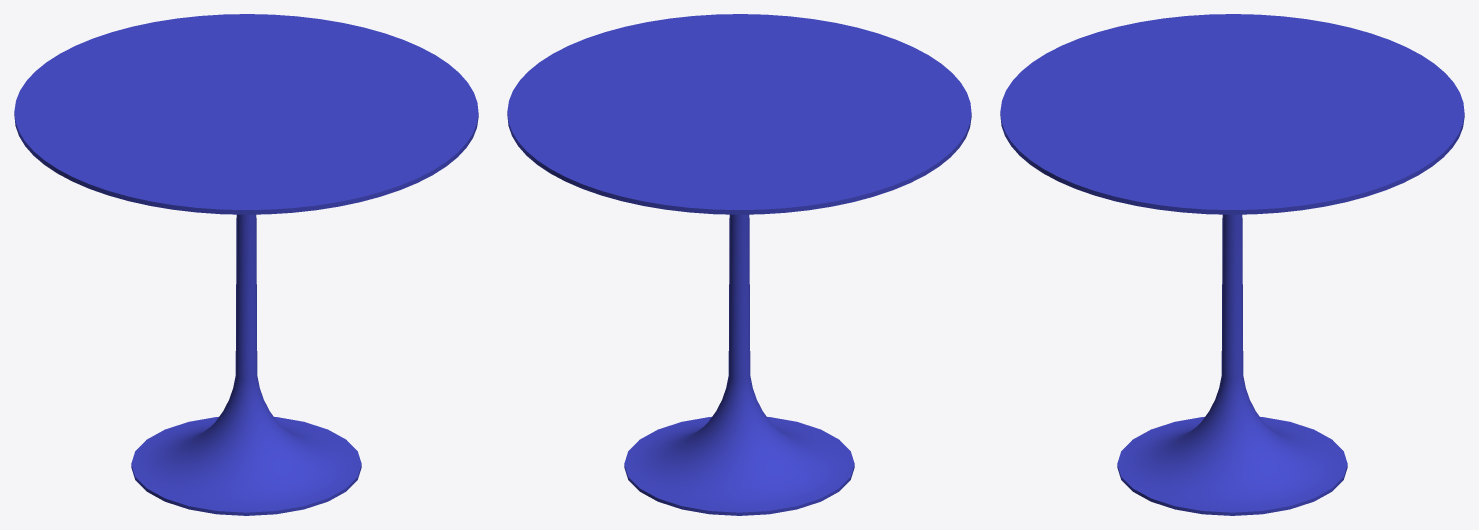
The model's file is table.fbx.
3 views of the same model, side by side, from view 1: azimuth 30°, elevation 25°; view 2: azimuth 150°, elevation 25°; view 3: azimuth 270°, elevation 25° (orthographic).
Visible parts, largest first — view 1: node_id6, node_id12; view 2: node_id6, node_id12; view 3: node_id6, node_id12.
Part boxes in pixels (x1,y1,x2,y2): node_id6: (14, 14, 478, 214); node_id12: (131, 214, 361, 515); node_id6: (507, 14, 971, 214); node_id12: (624, 214, 854, 515); node_id6: (1000, 14, 1464, 214); node_id12: (1117, 214, 1347, 515).
Bounding box in the file's own units: 0.512 × 0.4324 × 0.512.
3 materials, 3 textured.
